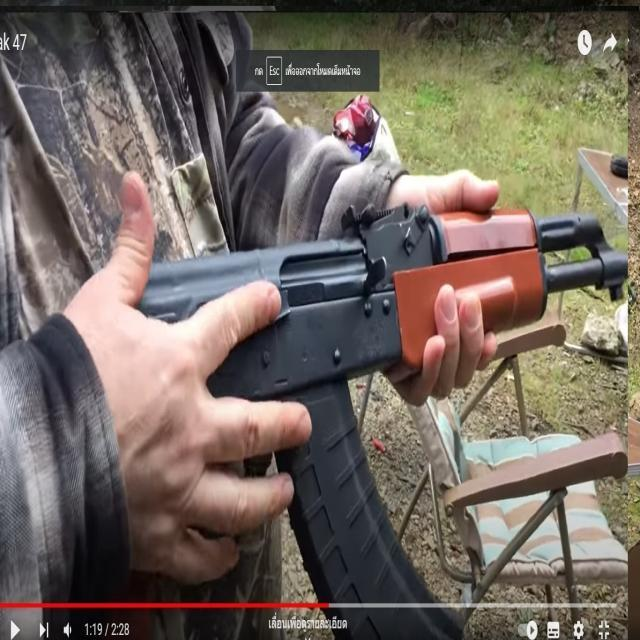ak: (113, 193, 625, 640)
